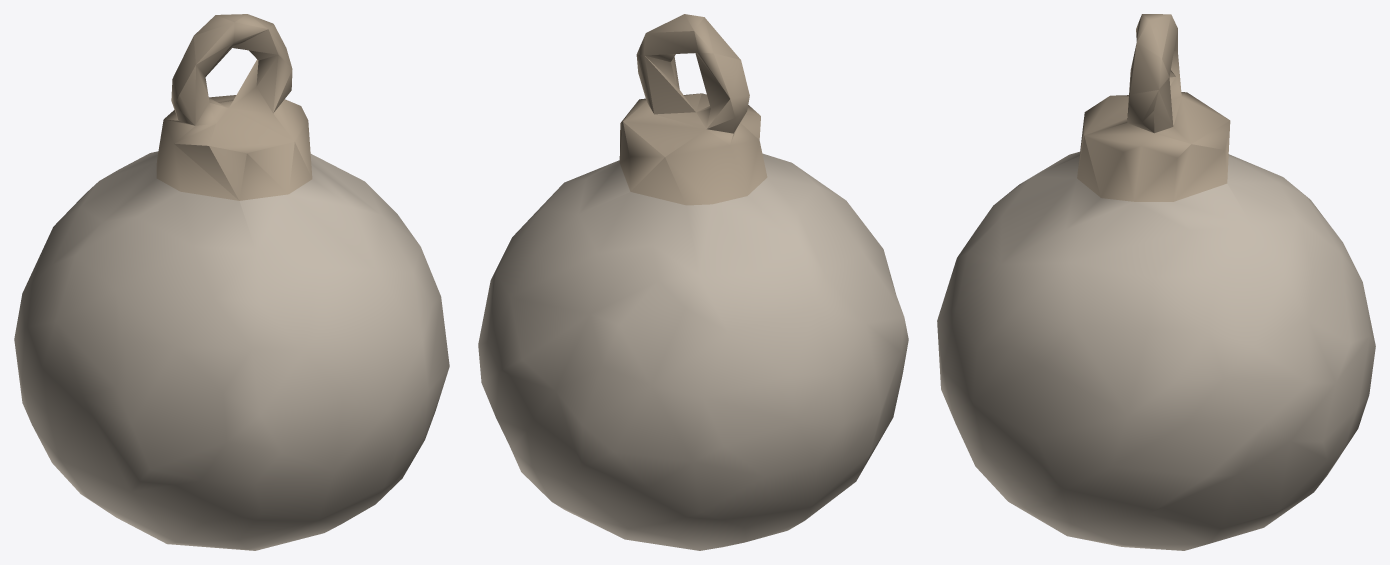
The model's file is ball_01.medium.glb.
3 views of the same model, side by side, from view 1: azimuth 30°, elevation 25°; view 2: azimuth 150°, elevation 25°; view 3: azimuth 270°, elevation 25° (orthographic).
Bounding box in the file's own units: 1.52 × 2 × 1.54.
